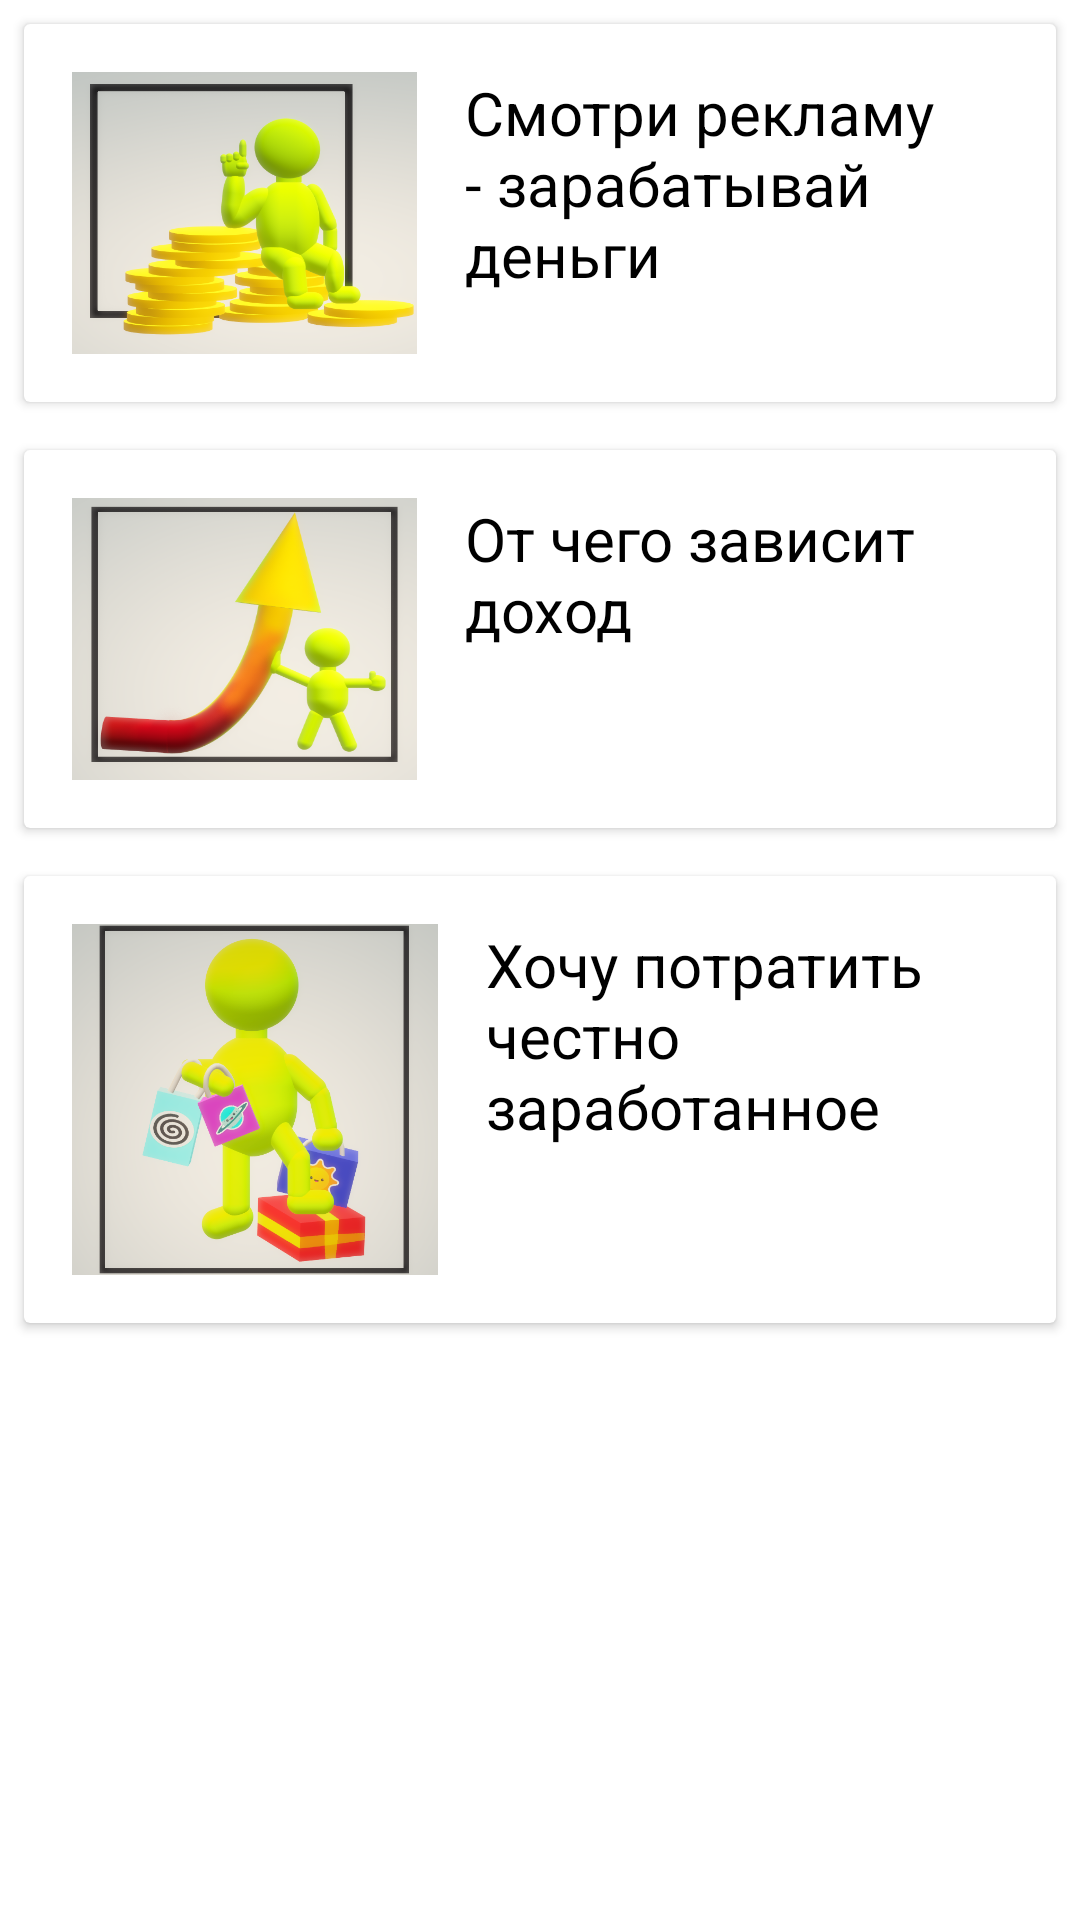

Icon bounding boxes for this 1080px×1920px phone screenshot, format [x1, y1, x2, y2]:
grafic: [72, 498, 417, 780]
kopilka: [72, 72, 417, 354]
